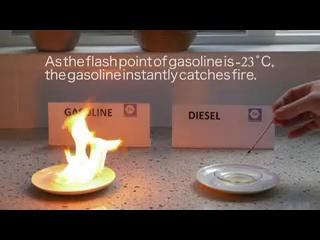Fire: (61, 106, 116, 182)
